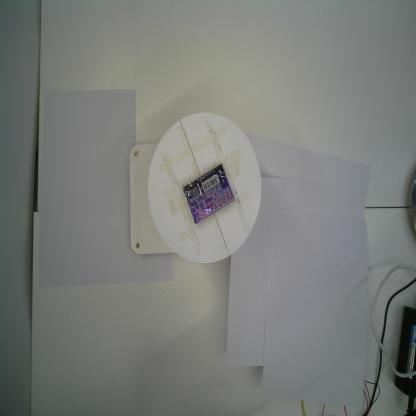Gum: (182, 163, 235, 225)
